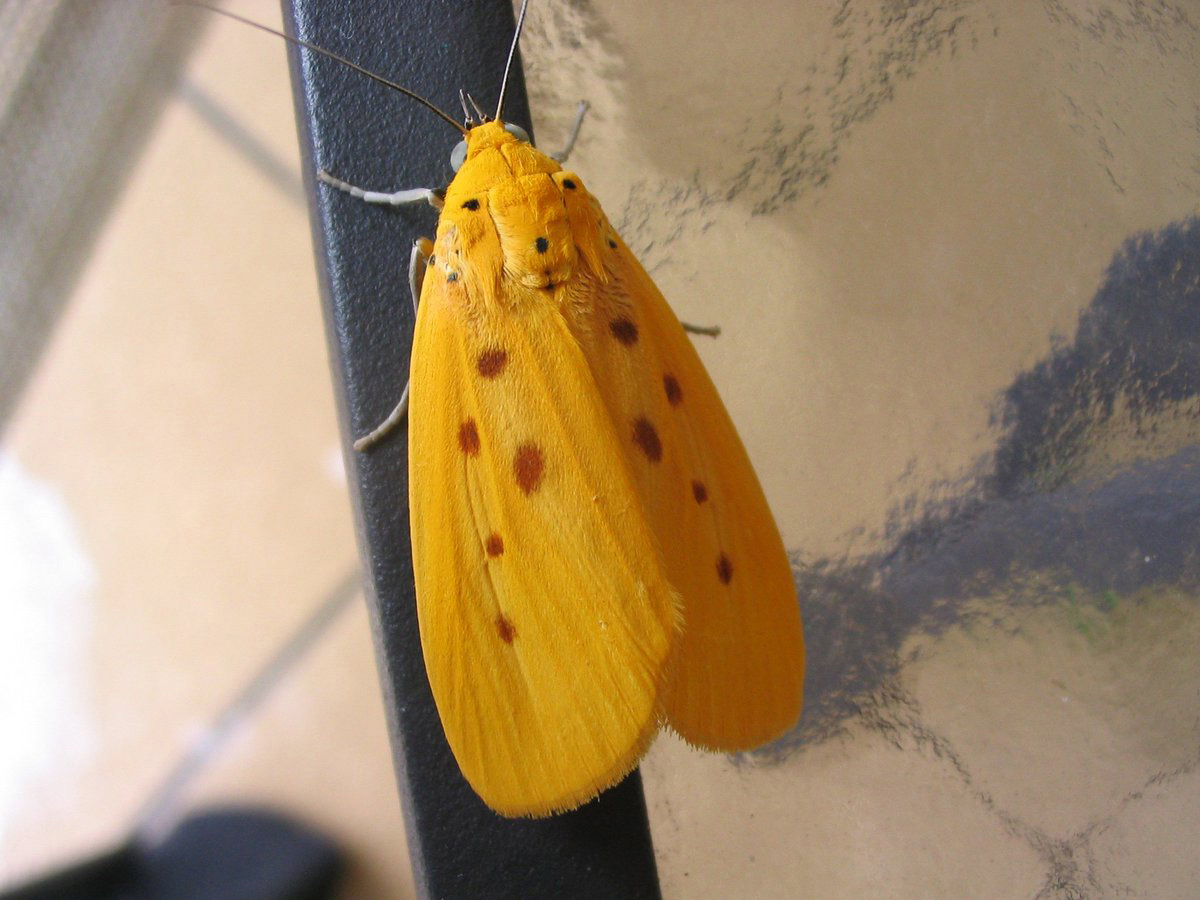Agape chloropyga: (195, 2, 820, 828)
moth: (193, 1, 818, 826)
